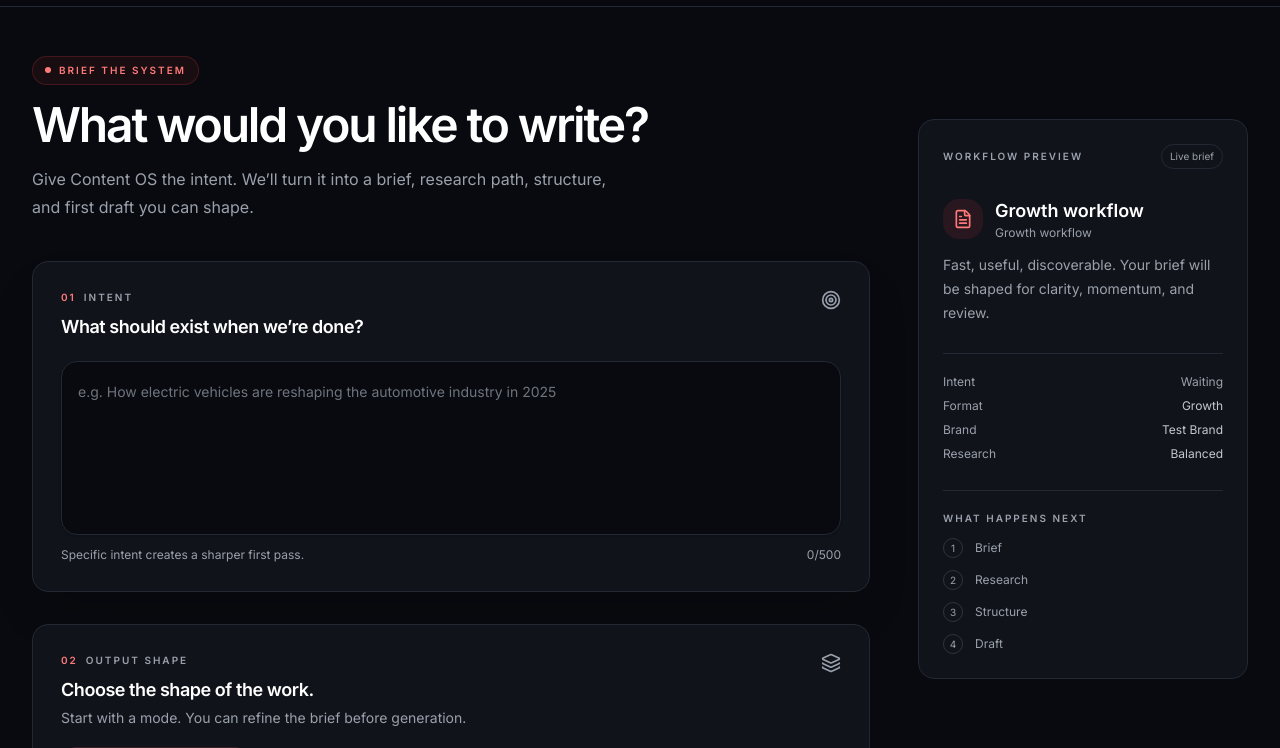
Create page — form validation › Generate button becomes enabled when topic is filled
This screenshot has width=1280, height=748.
Type "The future of renewable energy" into the text box with placeholder "How electric vehicles" at [451, 448], box [61,360,841,534]
(page scrolled)
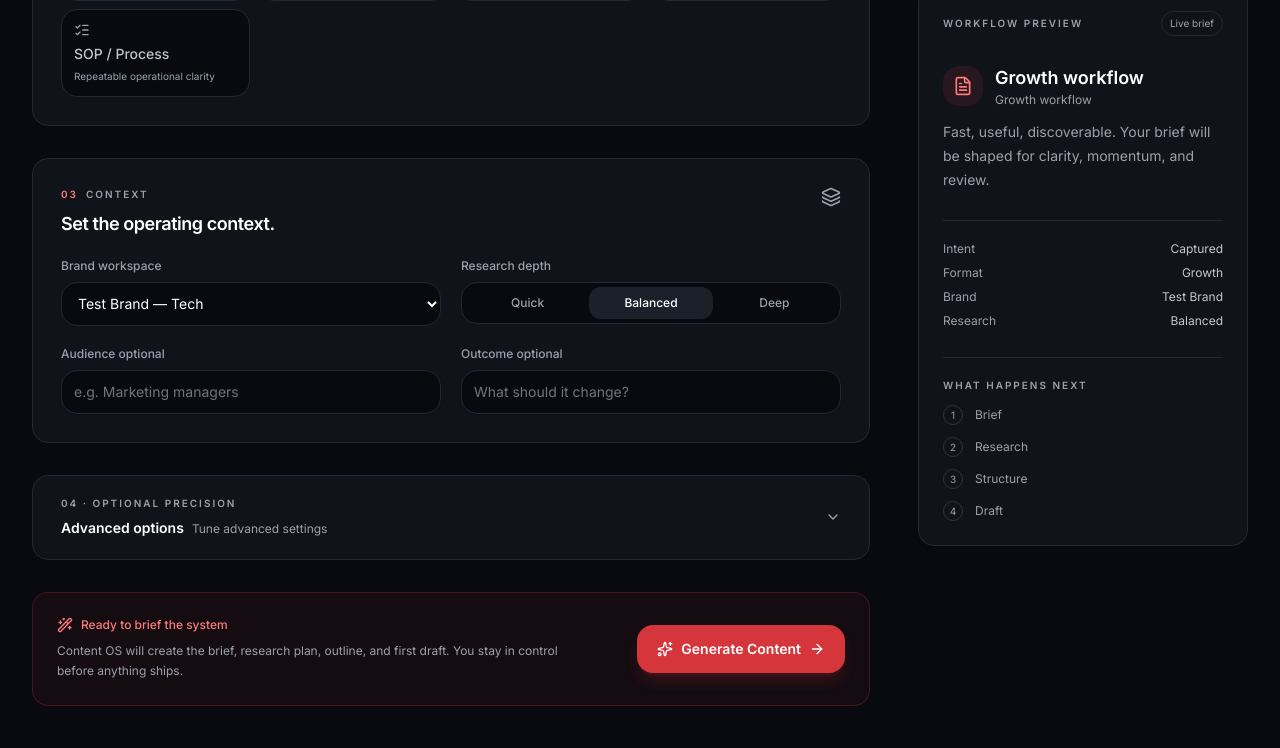
Expected: the button "Generate Content" is enabled, [637,624,845,672]
